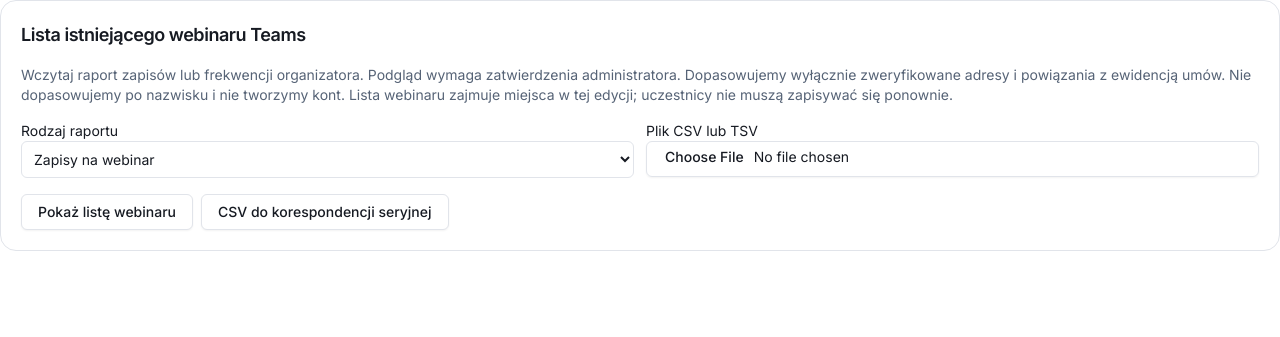
webinar review before atomic import › shows no file/import operation for canceled editions and requires completed actual window for attendance
Select "Obecność z Teams" in the dropdown labelled "Rodzaj raportu" at [328, 160], box [21,141,634,178]
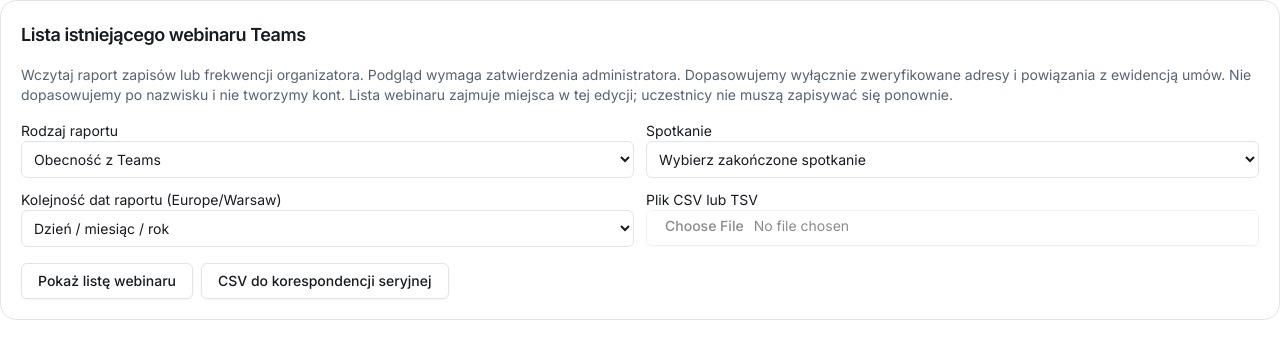
Check: the file field named "Plik raportu Teams" is disabled, box [646,210,1259,246]
